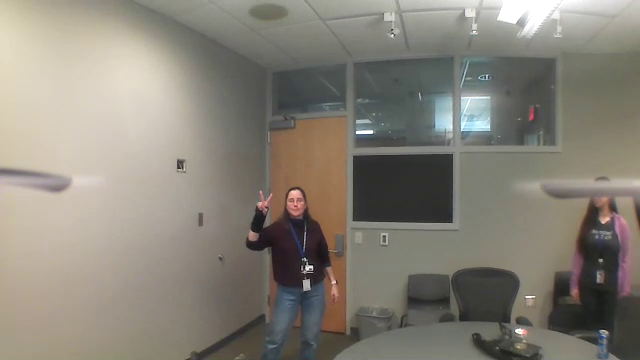peace: (252, 189, 278, 217)
